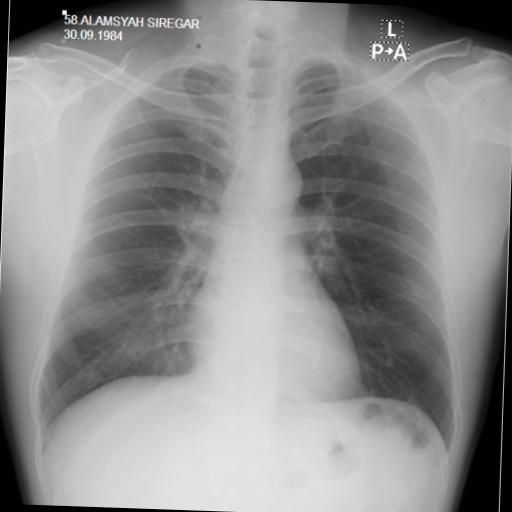normal: (16, 27, 480, 468)
